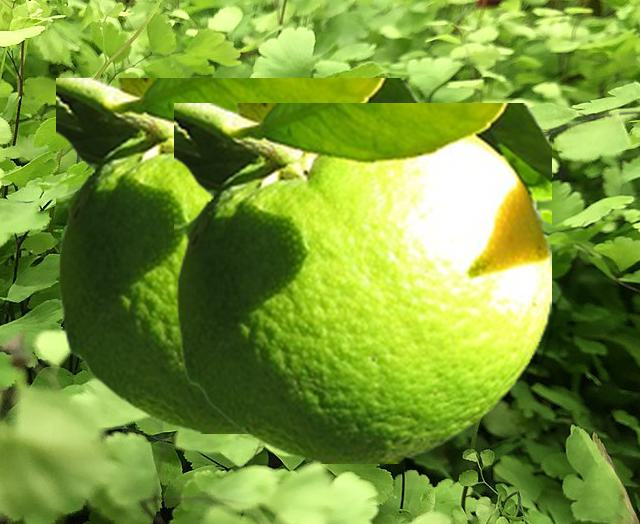dalandan: (174, 103, 550, 462), (56, 78, 424, 432)
